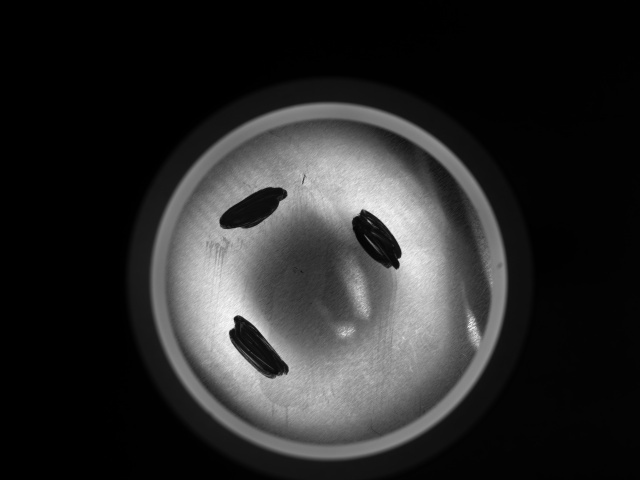zang_wu: (228, 313, 292, 381), (349, 207, 404, 271), (215, 185, 291, 230)
